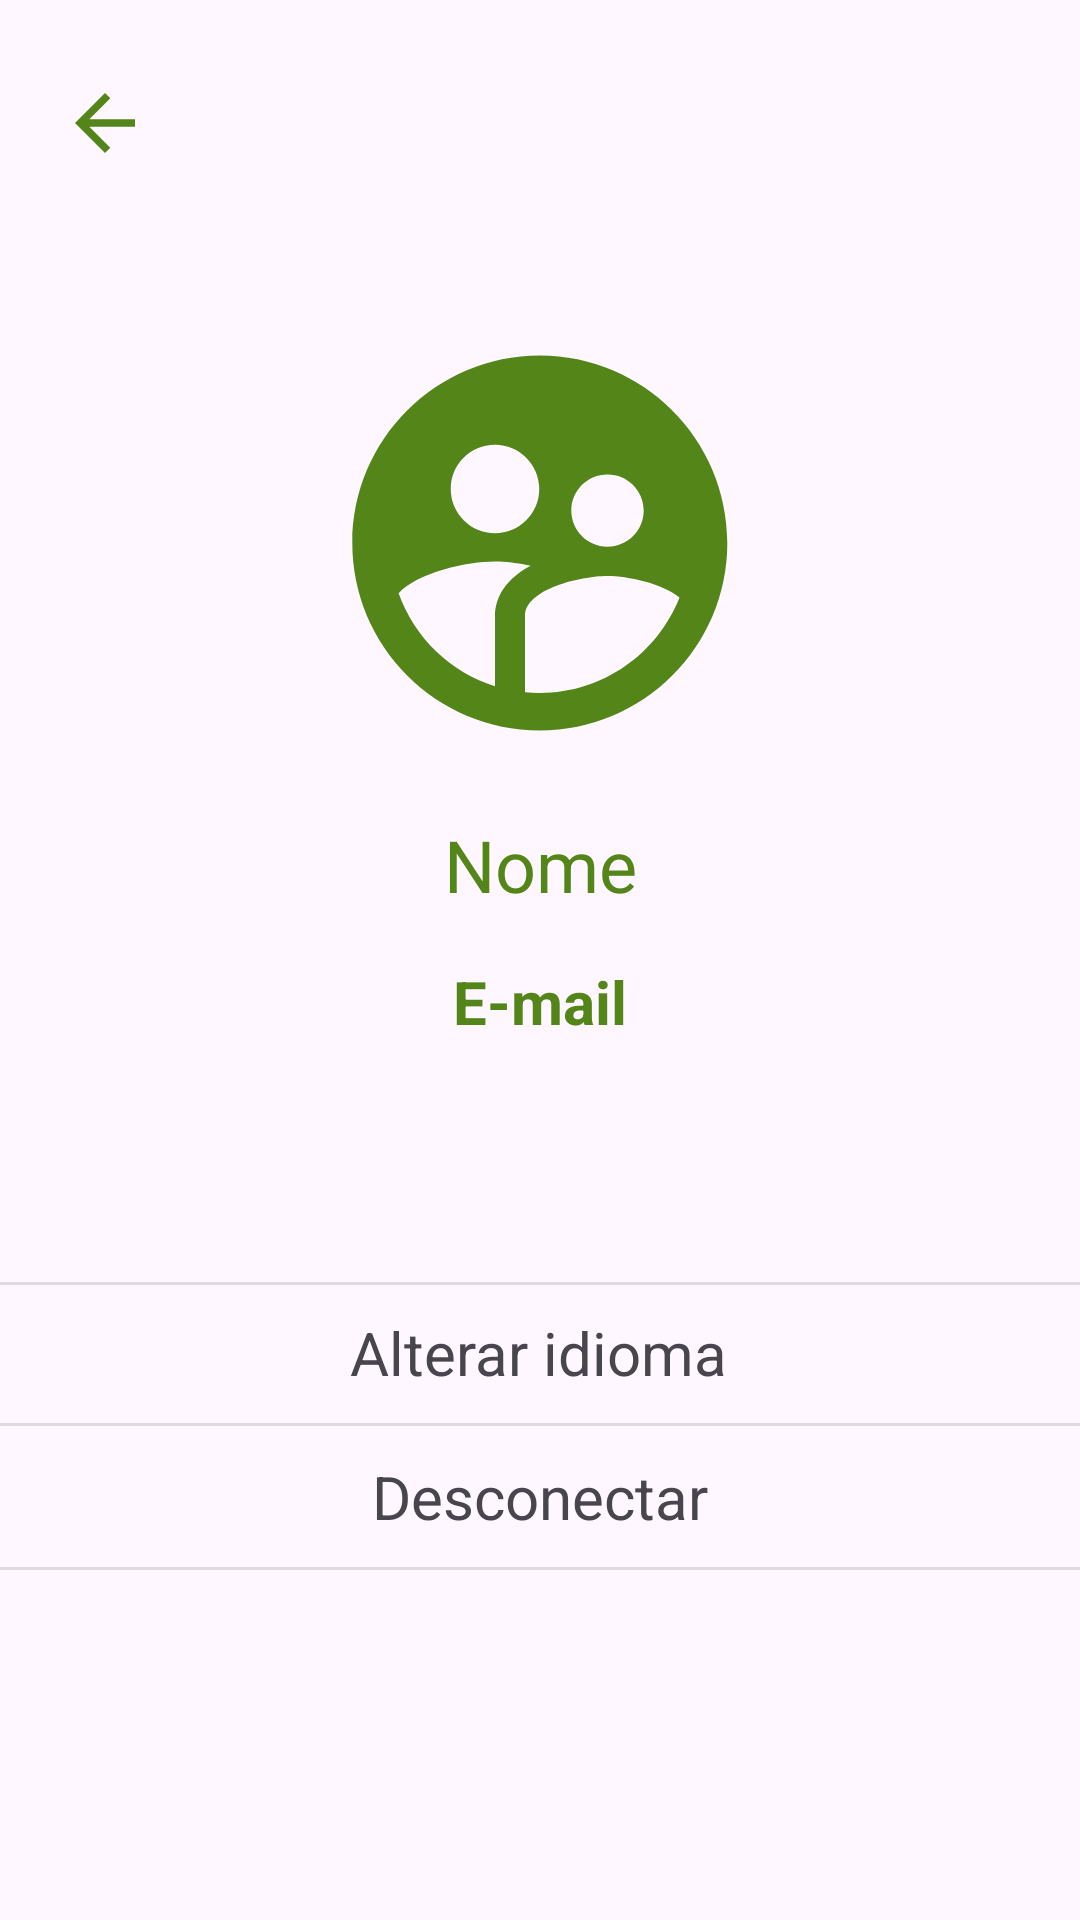

Where to tap for icons on this 1080 × 1920 app screen, as [x,y]:
voltar: [105,123]
